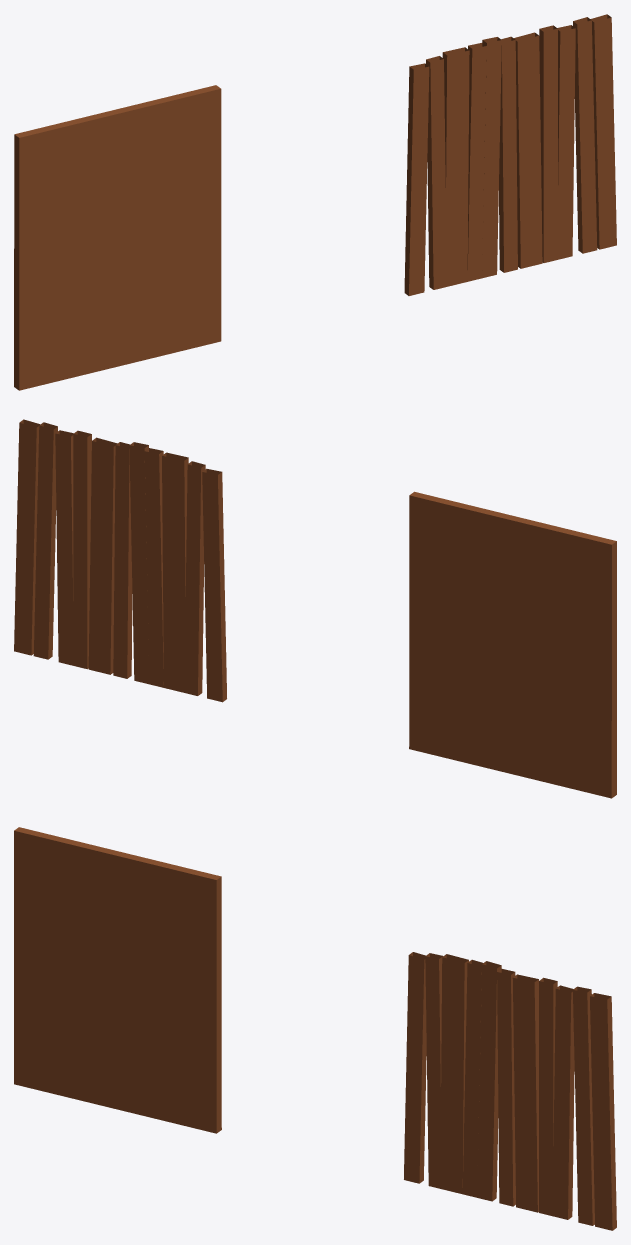
The model's file is prop_big_fence_wood.glb.
3 views of the same model, one above another, from view 1: azimuth 30°, elevation 25°; view 2: azimuth 150°, elevation 25°; view 3: azimuth 330°, elevation 25° (orthographic).
Parts seen in each view (by area): view 1: Props with out snow_Big Fence Wood_0; view 2: Props with out snow_Big Fence Wood_0; view 3: Props with out snow_Big Fence Wood_0.
Boxes of the visible parts, x1,y1,x2,y2 form: Props with out snow_Big Fence Wood_0: [14, 14, 616, 390]; Props with out snow_Big Fence Wood_0: [14, 419, 616, 798]; Props with out snow_Big Fence Wood_0: [14, 827, 616, 1230].
Bounding box in the file's own units: 12.02 × 4.86 × 0.201.
